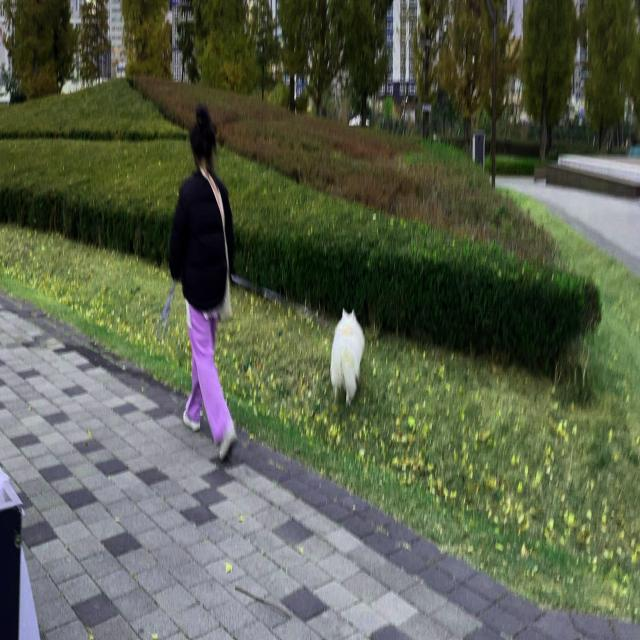Leashed_Dog: (210, 263, 366, 407)
